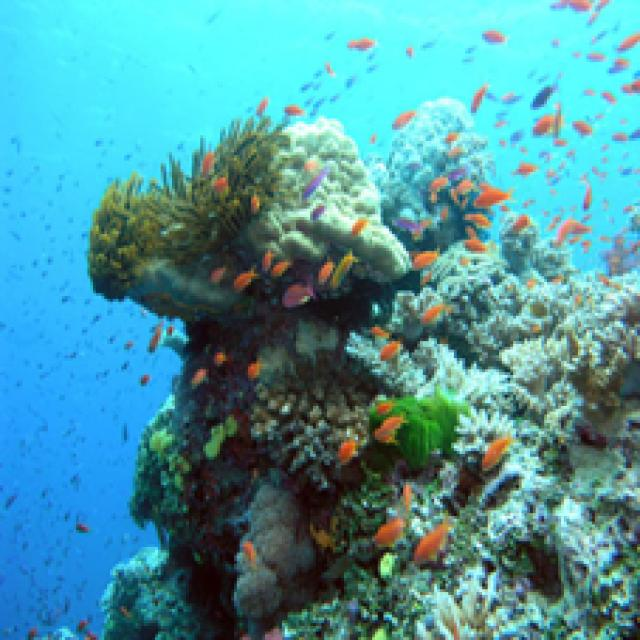Bleached: (289, 249, 638, 635)
Healthy: (88, 117, 289, 294), (255, 119, 407, 280), (235, 486, 331, 633), (252, 376, 368, 492), (390, 387, 469, 466)
